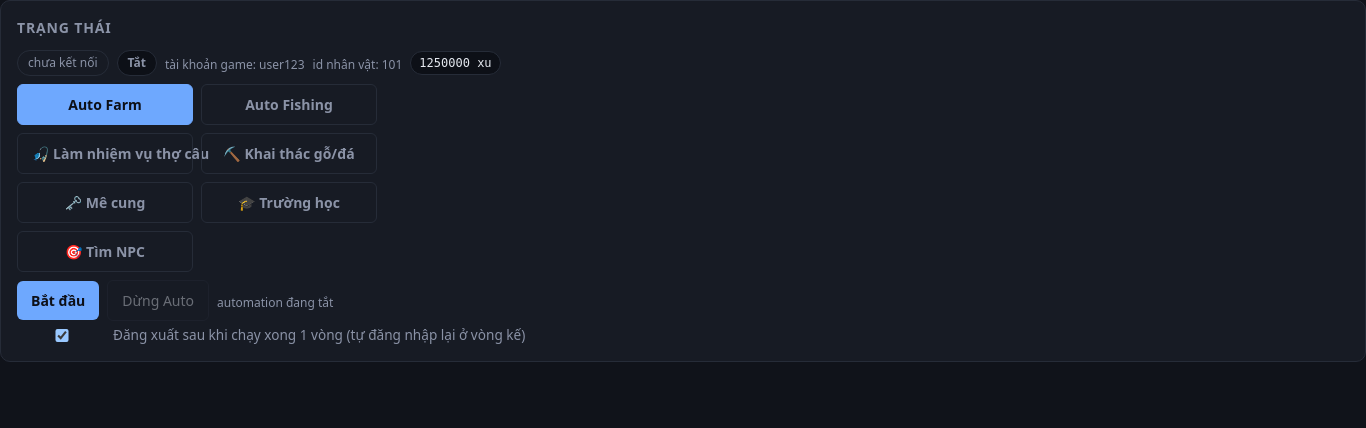
Test: hiển thị lỗi khi gọi bật auto thất bại
Click the button "Bắt đầu" at (58, 300), box [17,281,99,320]
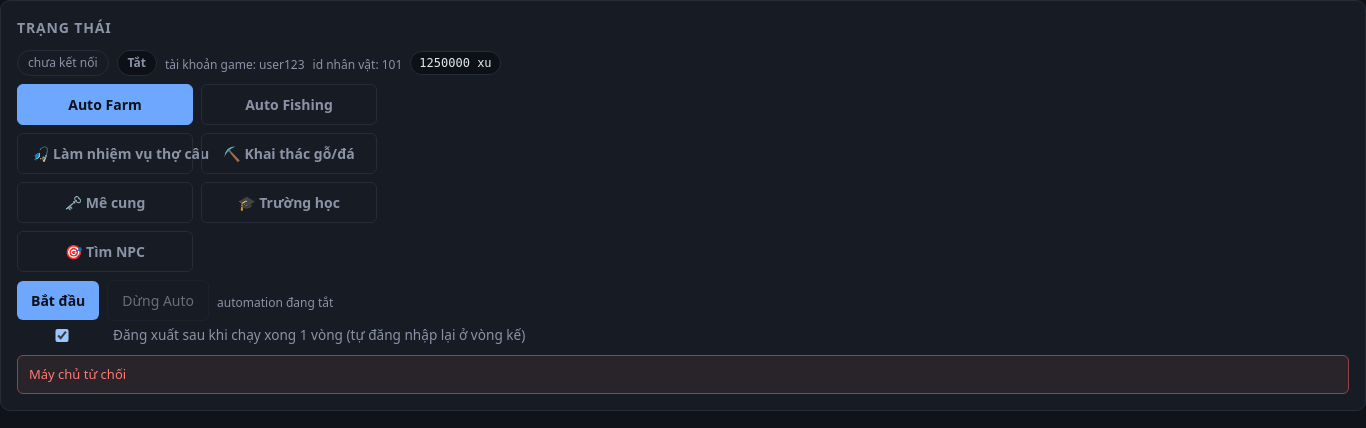
Expected: the text "Máy chủ từ chối" is shown, [29,365,126,383]
